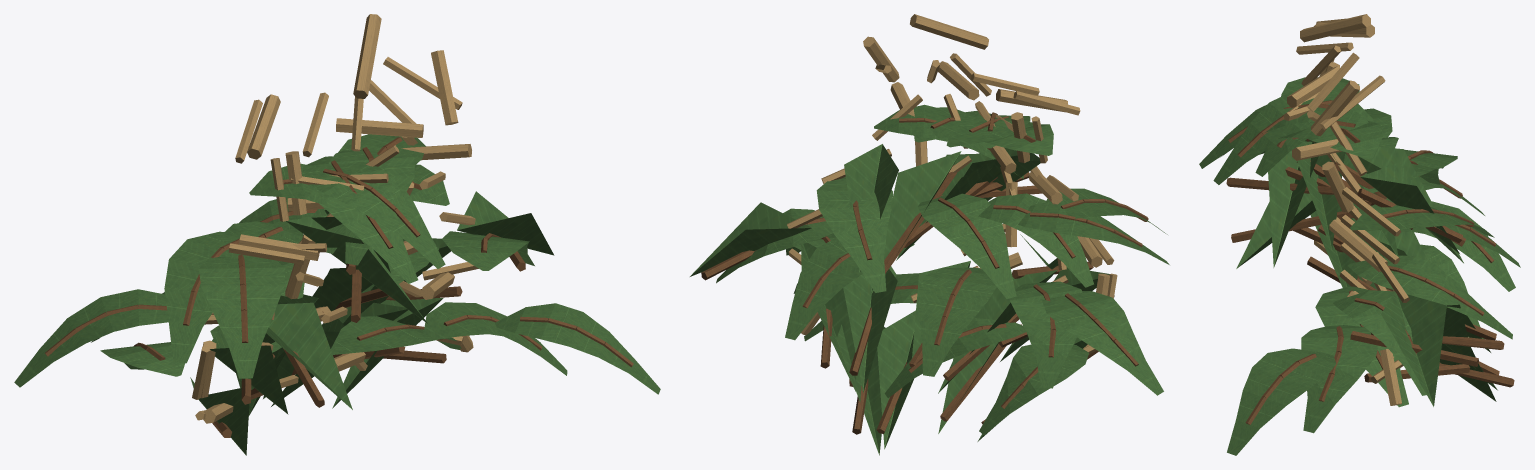
Rendered from en-010_vine_cluster_set__short.obj.
3 renders of one model, left to right at view 1: azimuth 30°, elevation 25°; view 2: azimuth 150°, elevation 25°; view 3: azimuth 270°, elevation 25°, orthographic. The views are drawn at different scales.
Parts seen in each view (by area): view 1: en-010_vine_cluster_set__short; view 2: en-010_vine_cluster_set__short; view 3: en-010_vine_cluster_set__short.
Part boxes in pixels (x1,y1,x2,y2): en-010_vine_cluster_set__short: (14,14,660,455); en-010_vine_cluster_set__short: (690,14,1169,455); en-010_vine_cluster_set__short: (1199,14,1520,455).
Bounding box in the file's own units: 0.8213 × 0.6421 × 0.4669.
Materials: 3 (3 with a texture image).
